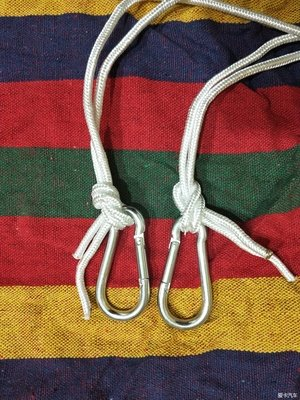9/可回收垃圾/绳子: (70, 1, 300, 323), (155, 34, 300, 330)
